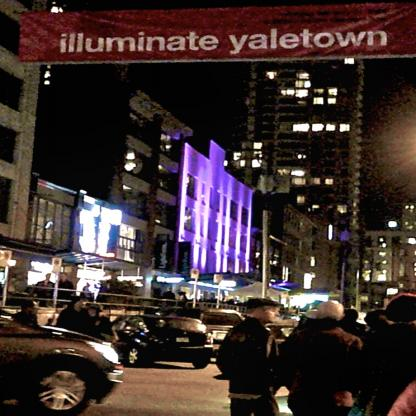Car: (1, 316, 123, 416), (111, 315, 215, 369), (157, 308, 248, 357)
